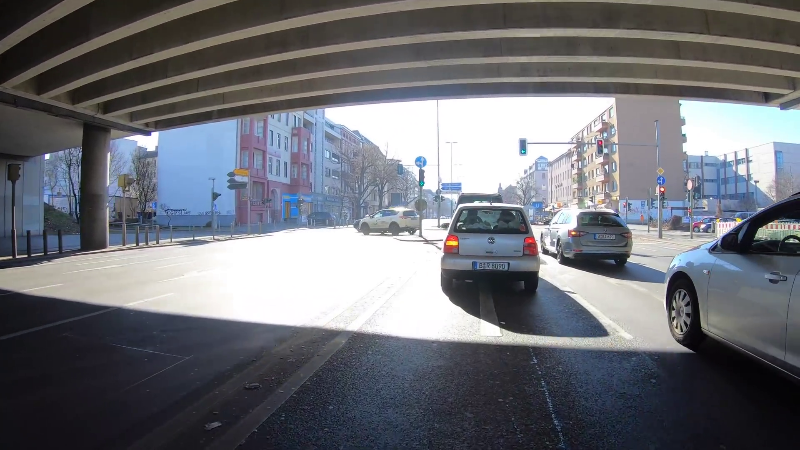Plate: (472, 260, 507, 271), (591, 231, 617, 241)
